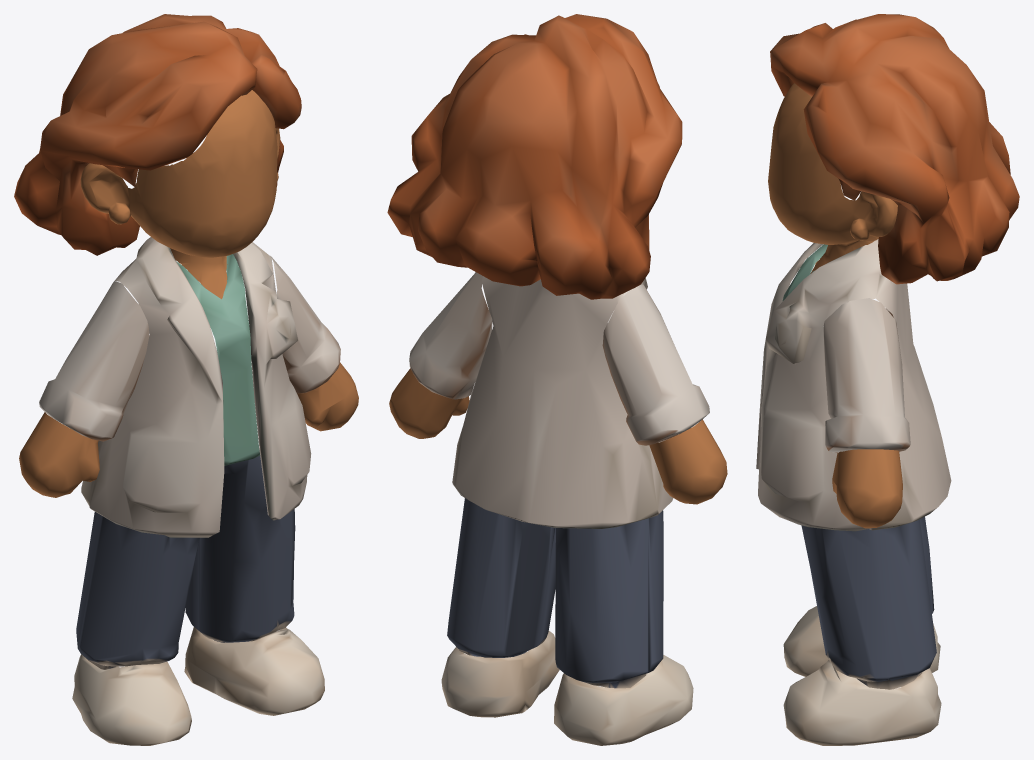
3 renders of one model, left to right at view 1: azimuth 30°, elevation 25°; view 2: azimuth 150°, elevation 25°; view 3: azimuth 270°, elevation 25°, orthographic.
Parts seen in each view (by area): view 1: top, hair, bottom, head, sleeve_r, shoe_l, shoe_r, hand_r, sleeve_l, hand_l; view 2: hair, top, bottom, sleeve_r, shoe_r, sleeve_l, shoe_l, hand_r, hand_l; view 3: hair, top, bottom, sleeve_l, head, shoe_l, hand_l, shoe_r.
Part boxes in pixels (<box>): top: <box>81,237,311,537</box>; hair: <box>14,14,301,255</box>; bottom: <box>76,456,295,669</box>; head: <box>80,90,280,299</box>; sleeve_r: <box>39,281,149,441</box>; shoe_l: <box>184,627,324,715</box>; shoe_r: <box>72,654,191,745</box>; hand_r: <box>19,412,99,497</box>; sleeve_l: <box>270,256,340,393</box>; hand_l: <box>297,362,358,431</box>; hair: <box>387,14,682,299</box>; top: <box>452,276,673,528</box>; bottom: <box>447,498,663,688</box>; sleeve_r: <box>602,284,709,445</box>; shoe_r: <box>554,655,693,745</box>; sleeve_l: <box>409,272,492,399</box>; shoe_l: <box>441,630,559,717</box>; hand_r: <box>649,419,727,504</box>; hand_l: <box>389,368,469,438</box>; hair: <box>770,14,1019,284</box>; top: <box>756,239,951,531</box>; bottom: <box>801,516,936,689</box>; sleeve_l: <box>823,298,910,452</box>; head: <box>768,83,897,273</box>; shoe_l: <box>783,660,941,745</box>; hand_l: <box>832,449,902,528</box>; shoe_r: <box>783,606,940,676</box>.
Size of the model in its own units: 0.5189 by 1.03 by 0.3651.
